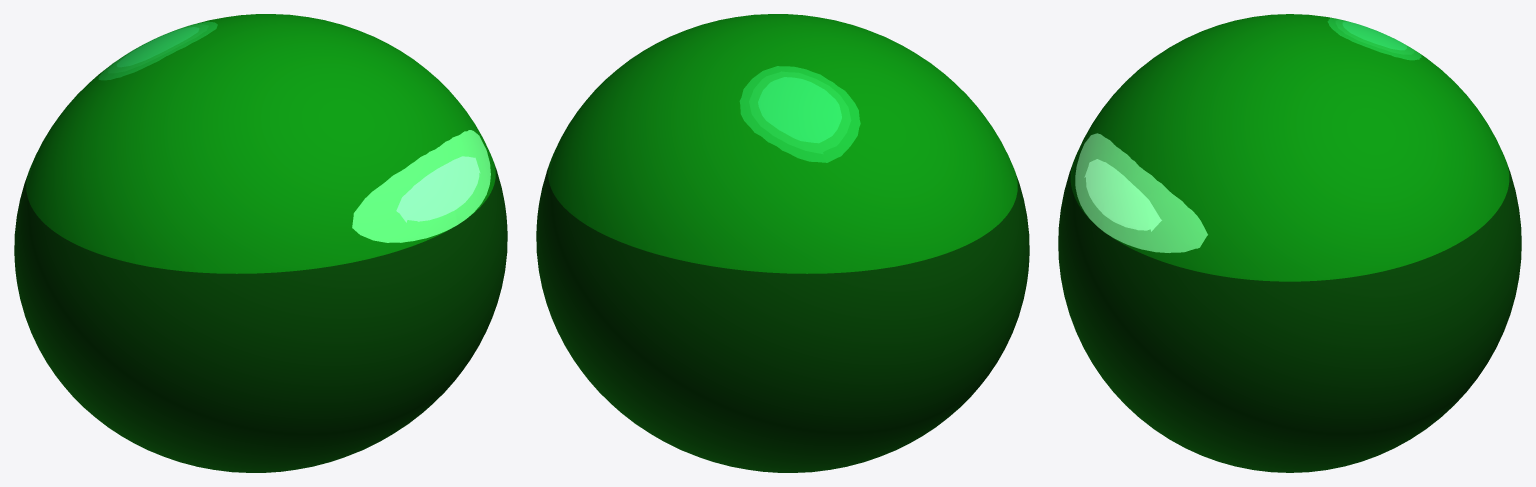
The model's file is gyges_orb_s.glb.
3 renders of one model, left to right at view 1: azimuth 30°, elevation 25°; view 2: azimuth 150°, elevation 25°; view 3: azimuth 270°, elevation 25°, orthographic.
Visible parts, largest first — view 1: gyges_orb_s; view 2: gyges_orb_s; view 3: gyges_orb_s.
Boxes of the visible parts, x1,y1,x2,y2 form: gyges_orb_s: (14, 14, 507, 472); gyges_orb_s: (536, 14, 1029, 472); gyges_orb_s: (1058, 14, 1521, 472).
Size of the model in its own units: 15.2 by 13.8 by 14.2.
